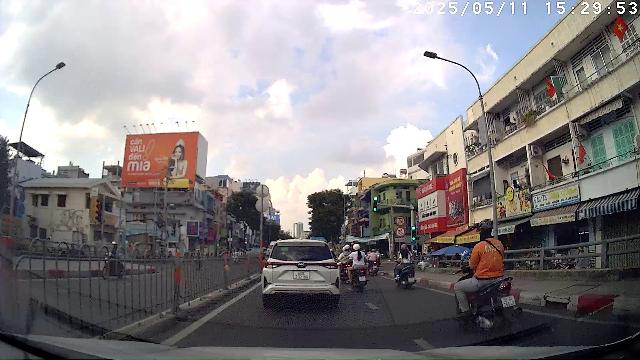103b-cam-oto-re-phai: (395, 227, 406, 237)
103c-cam-oto-re-trai: (395, 215, 406, 226)
